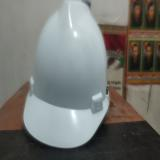Helmet: (22, 0, 109, 148)
